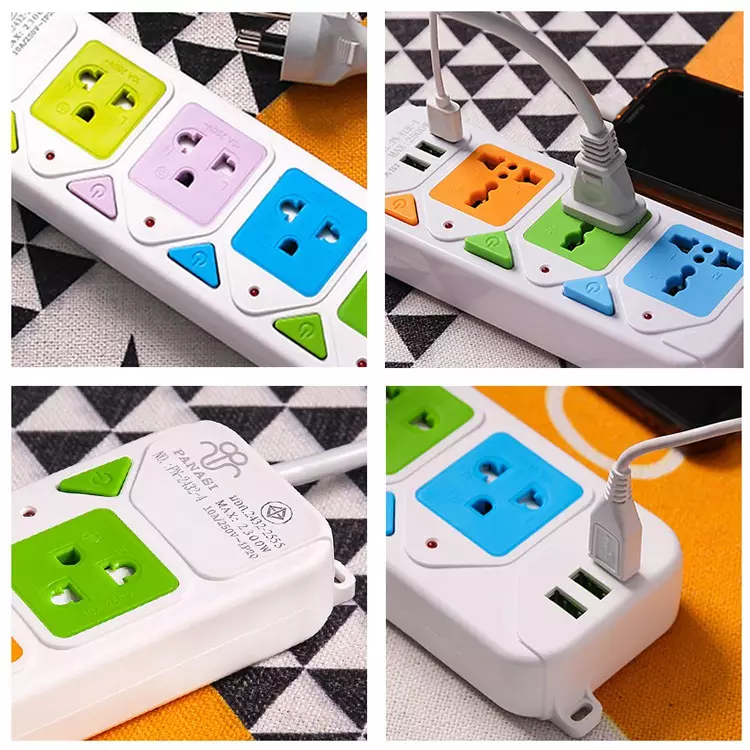Three_eye_plug: (10, 11, 366, 365), (385, 387, 693, 748), (13, 418, 342, 739), (383, 101, 747, 369)
